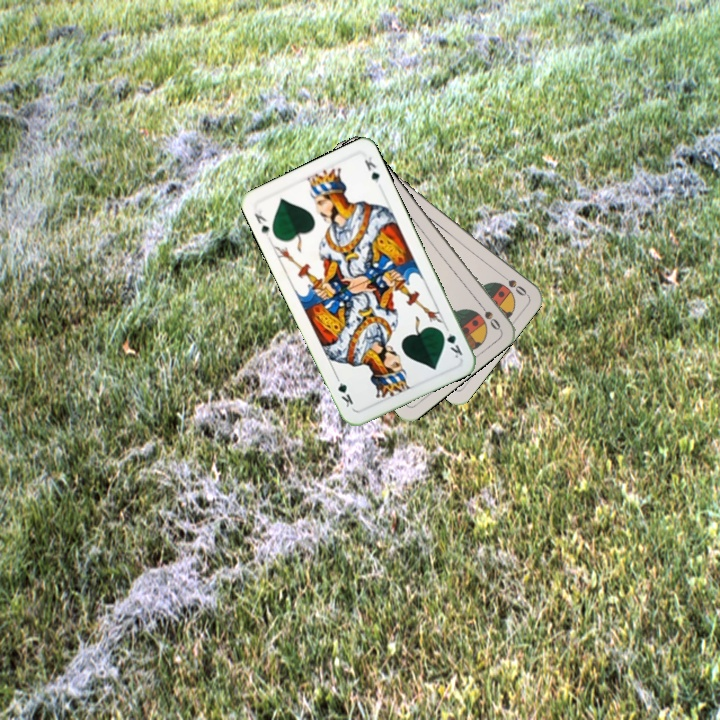GK: (437, 325, 465, 361), (250, 206, 272, 239)
SO: (495, 268, 529, 299), (474, 297, 503, 333)
